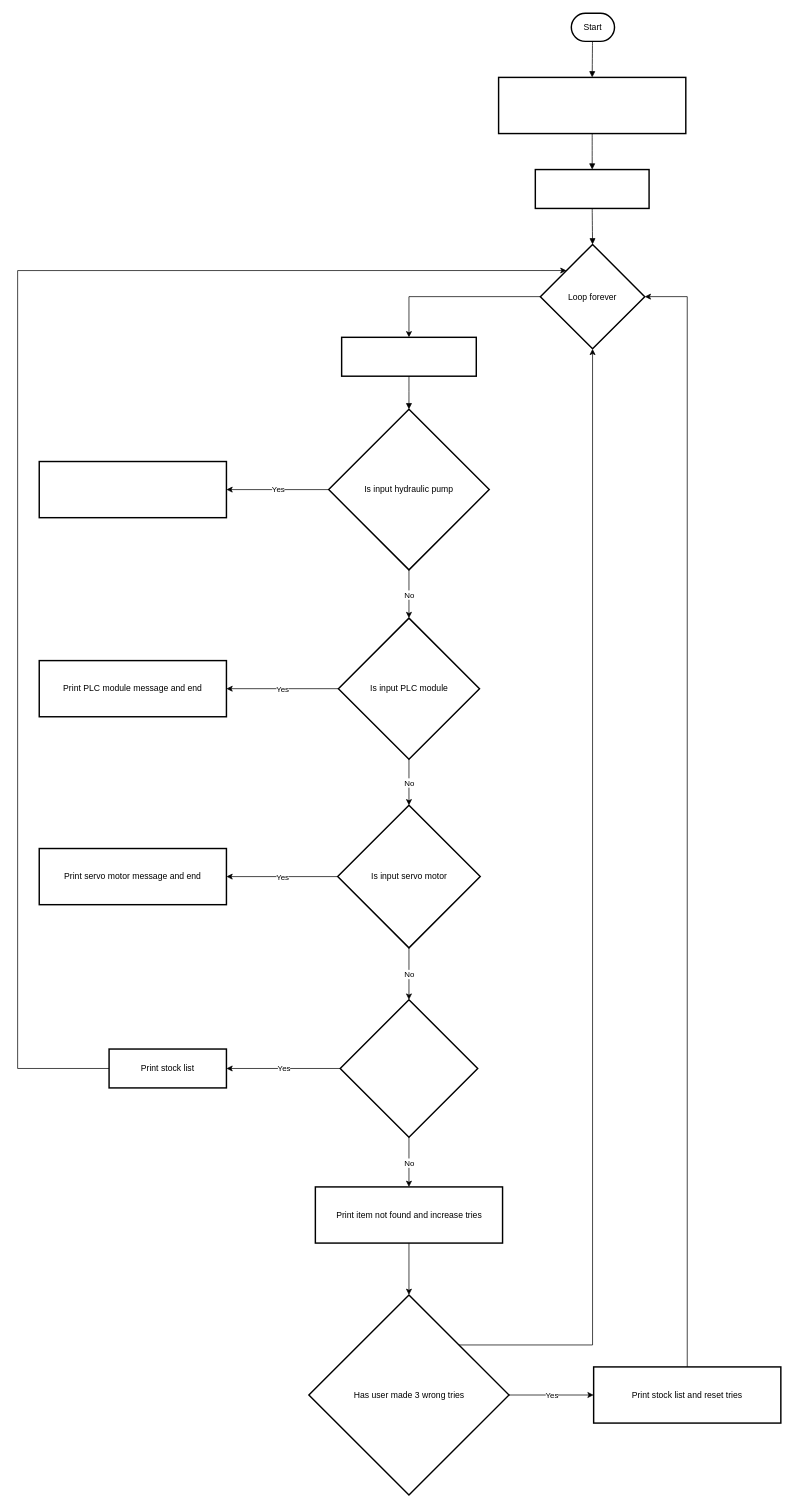
The diagram is 794 pixels wide and 1508 high, and some of its shapes have lost their labels. Each missing label, with the box of its shape:
Ask user for input: (341, 336, 477, 377)
Initialize variables: input array and tries counter: (498, 76, 686, 134)
Is input Show stock: (339, 999, 478, 1138)
Print greeting: (534, 168, 649, 209)
Print hydraulic pump message and end: (38, 460, 227, 518)
